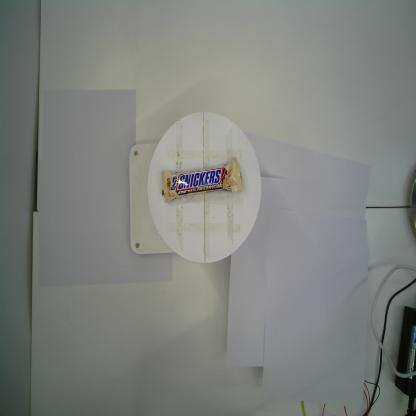Chocolate: (161, 155, 244, 204)
